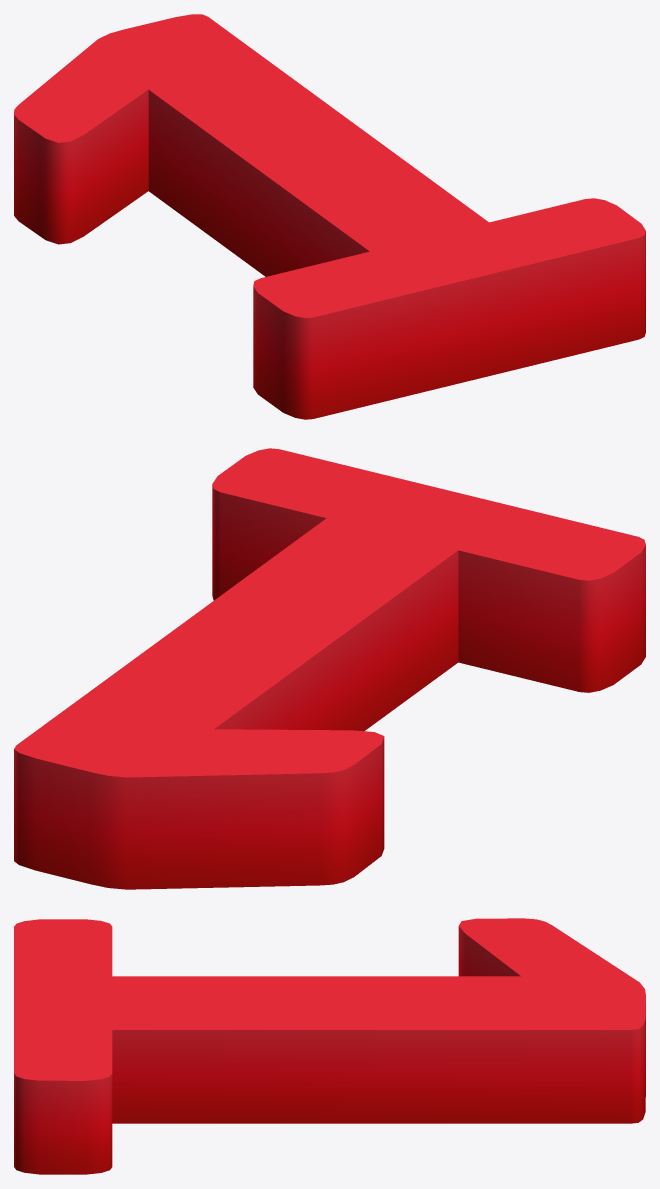
Rendered from figure_1.fbx.
The picture shows the model from 3 angles, top to bottom: view 1: azimuth 30°, elevation 25°; view 2: azimuth 150°, elevation 25°; view 3: azimuth 270°, elevation 25°; orthographic projection. The views are drawn at different scales.
Parts seen in each view (by area): view 1: figure_1; view 2: figure_1; view 3: figure_1.
Boxes of the visible parts, bbox=[...] form: figure_1: bbox=[14, 14, 645, 419]; figure_1: bbox=[14, 448, 645, 889]; figure_1: bbox=[14, 918, 645, 1174].
Size of the model in its own units: 13.94 by 3.75 by 22.91.
